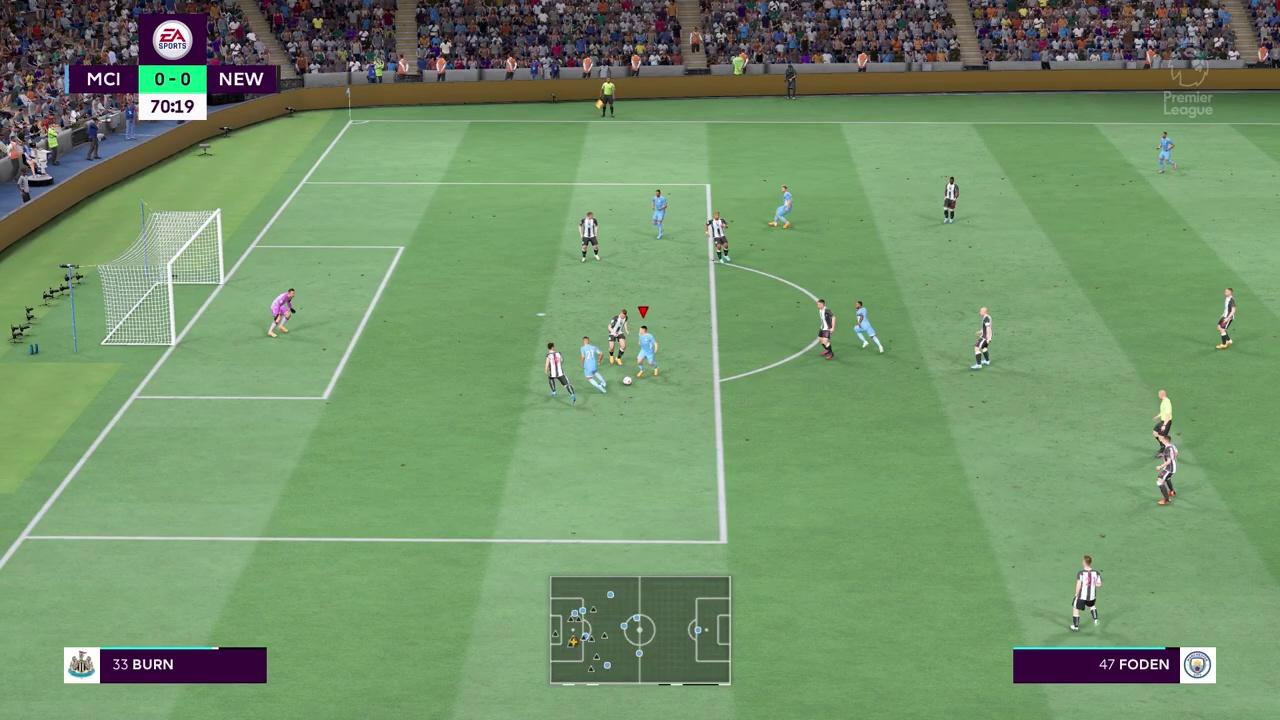scoreboard: (62, 65, 282, 93)
timestamp: (137, 93, 207, 120)
